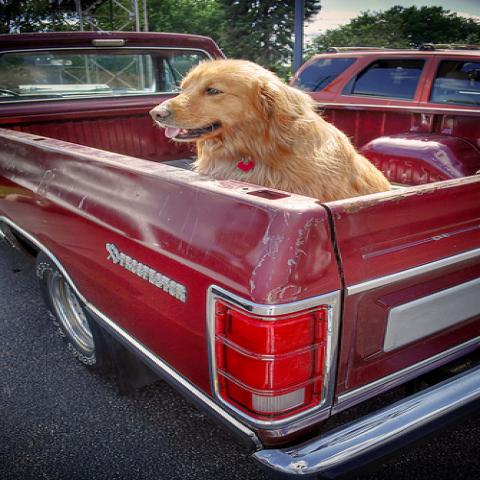car: (290, 44, 479, 110)
truck: (0, 29, 479, 479)
